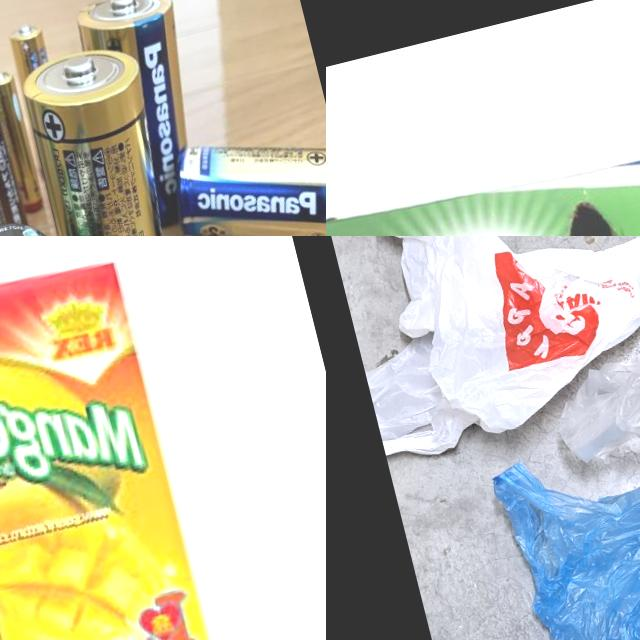bateria: (6, 36, 201, 236), (66, 0, 224, 236), (157, 110, 326, 236), (1, 20, 79, 186), (0, 62, 47, 217), (0, 71, 33, 236)
caixinha: (0, 244, 236, 640)
papelão: (326, 108, 640, 236)
sacola plástica: (326, 236, 640, 465), (486, 393, 640, 640), (509, 236, 640, 500)
